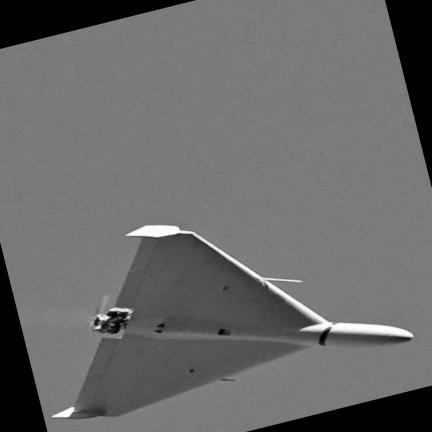Shahed: (53, 225, 413, 420)
